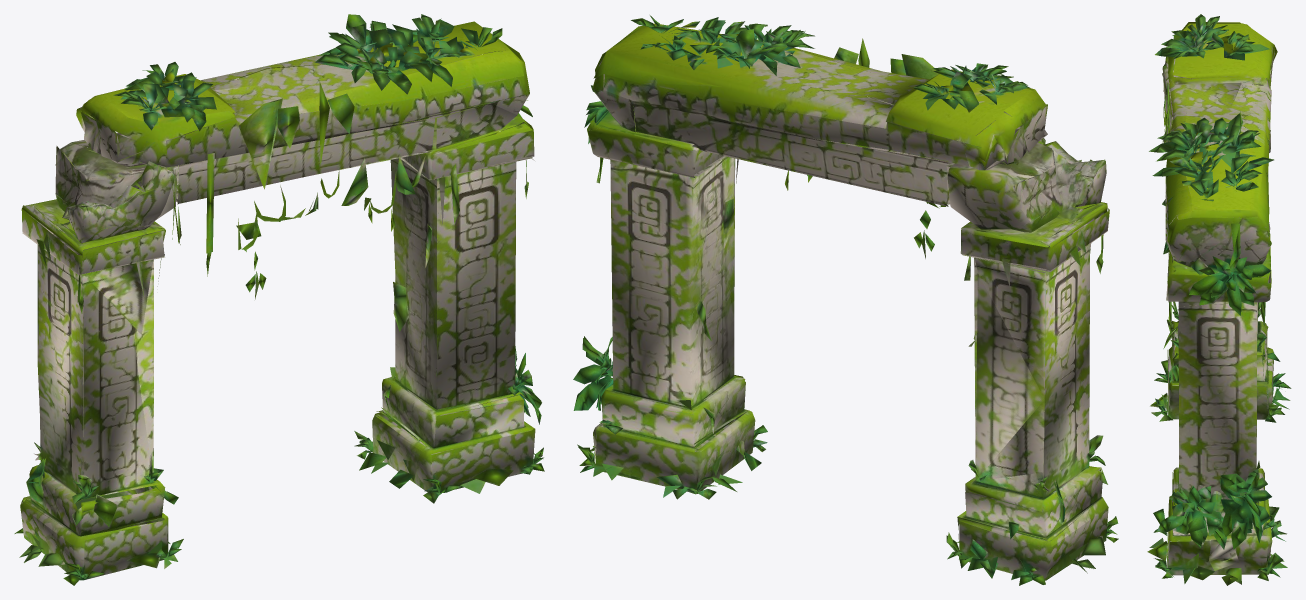
File: Gate.fbx
The picture shows the model from 3 angles, left to right: view 1: azimuth 30°, elevation 25°; view 2: azimuth 150°, elevation 25°; view 3: azimuth 270°, elevation 25°; orthographic projection. The views are drawn at different scales.
Parts seen in each view (by area): view 1: Gate; view 2: Gate; view 3: Gate.
Boxes of the visible parts, bbox=[...] form: Gate: bbox=[14, 14, 544, 585]; Gate: bbox=[573, 15, 1118, 585]; Gate: bbox=[1147, 14, 1291, 585].
Bounding box in the file's own units: 5.2 × 4.53 × 1.47.
1 material, 1 textured.
